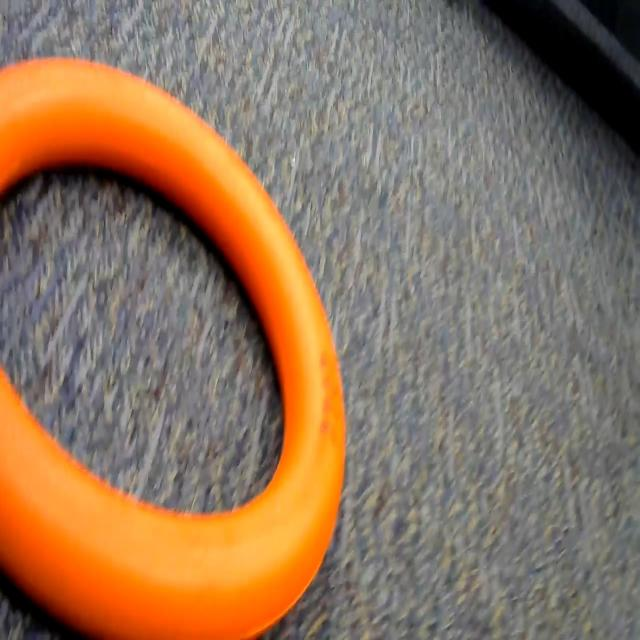note: (0, 50, 349, 640)
